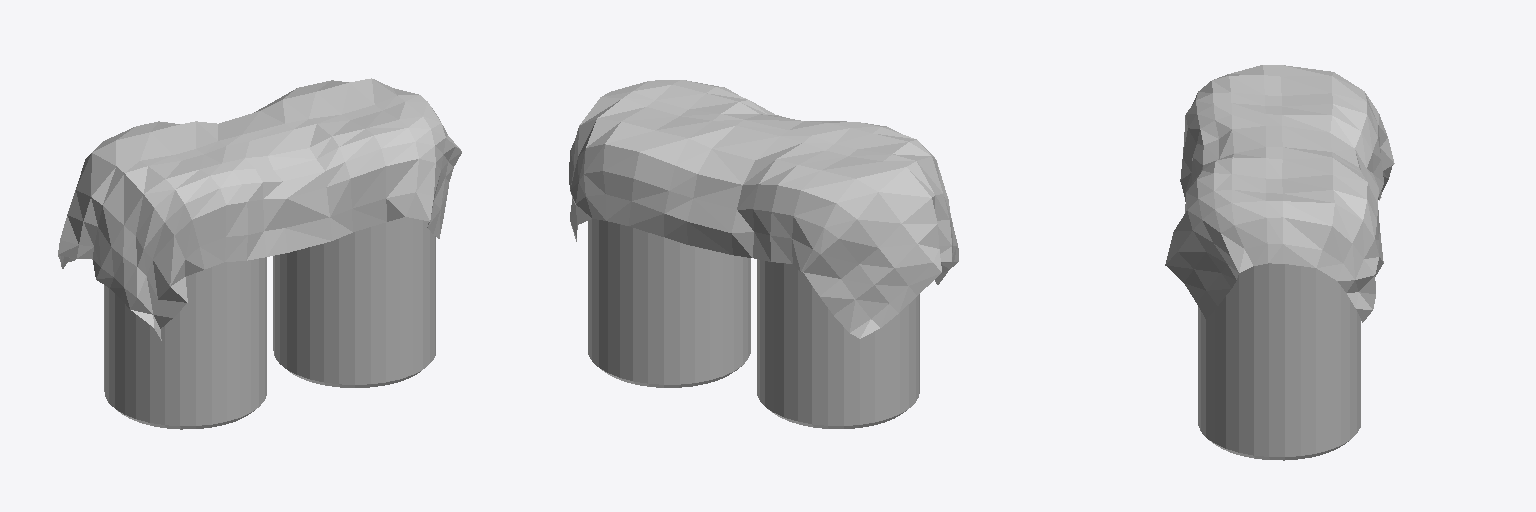
Rendered from Barrel_doubleCloth.obj.
3 views of the same model, side by side, from view 1: azimuth 30°, elevation 25°; view 2: azimuth 150°, elevation 25°; view 3: azimuth 270°, elevation 25° (orthographic).
Parts seen in each view (by area): view 1: 2_barrels_cloth; view 2: 2_barrels_cloth; view 3: 2_barrels_cloth.
Boxes of the visible parts, x1,y1,x2,y2 form: 2_barrels_cloth: [58, 78, 461, 429]; 2_barrels_cloth: [569, 80, 958, 428]; 2_barrels_cloth: [1165, 65, 1394, 460].
Size of the model in its own units: 2.11 by 1.35 by 1.13.